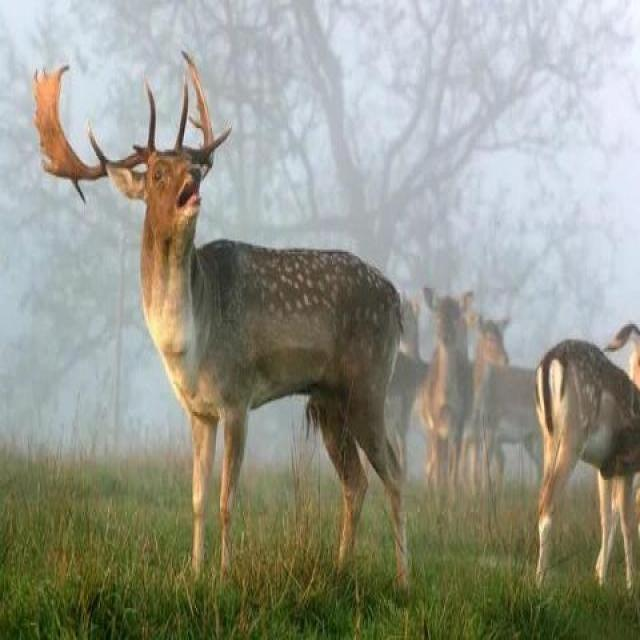deer: (21, 43, 418, 598)
